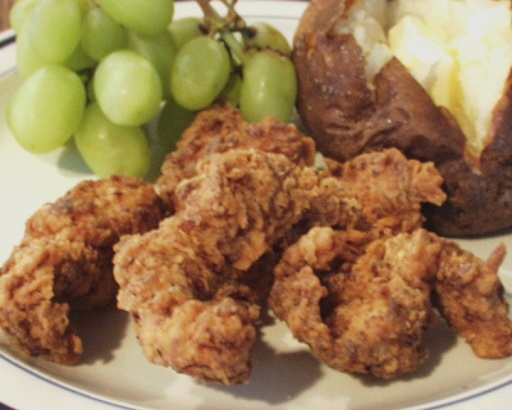background: (0, 0, 410, 248)
